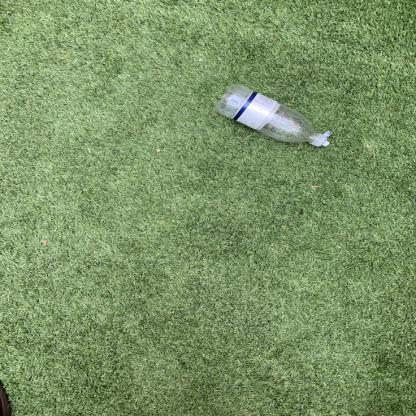trash: (213, 84, 334, 149)
